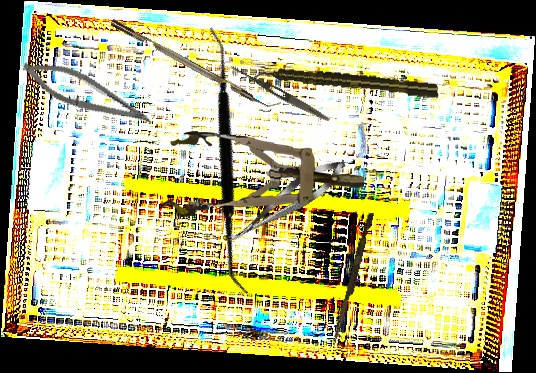Chopper: (110, 11, 282, 116)
Dressing Forceps: (227, 63, 332, 124)
Handpiece: (252, 63, 441, 100)
Micro Scissor: (219, 150, 353, 254), (16, 52, 160, 134)
Pusher: (331, 211, 375, 348)
Spatula Surgical: (105, 25, 353, 296)
Speculum: (161, 129, 367, 227)
